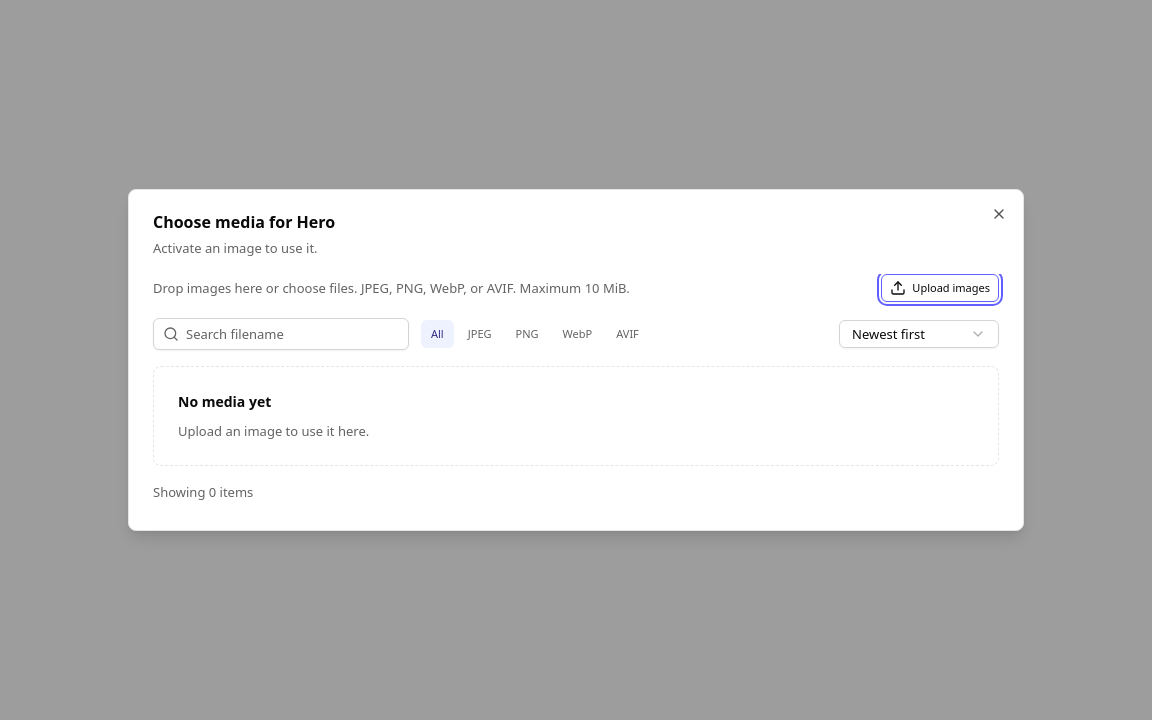
Test: empty and no-match states are distinguished and filters can be cleared
Check: the heading "No media yet" is shown, box [178,391,271,413]
Click the button "JPEG". click: (480, 334)
box: [458,320,502,348]
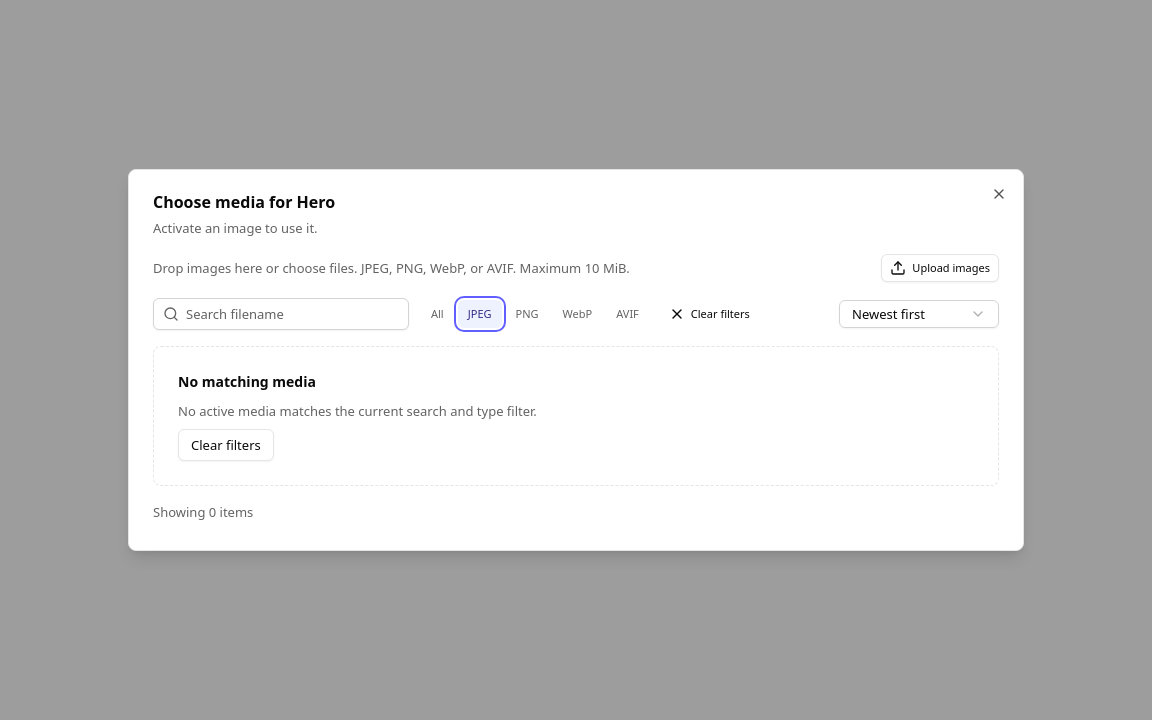
Check: the heading "No matching media" is shown, box [178,371,316,393]
Click the 1st button "Clear filters". click: (709, 314)
box: [661,300,758,328]
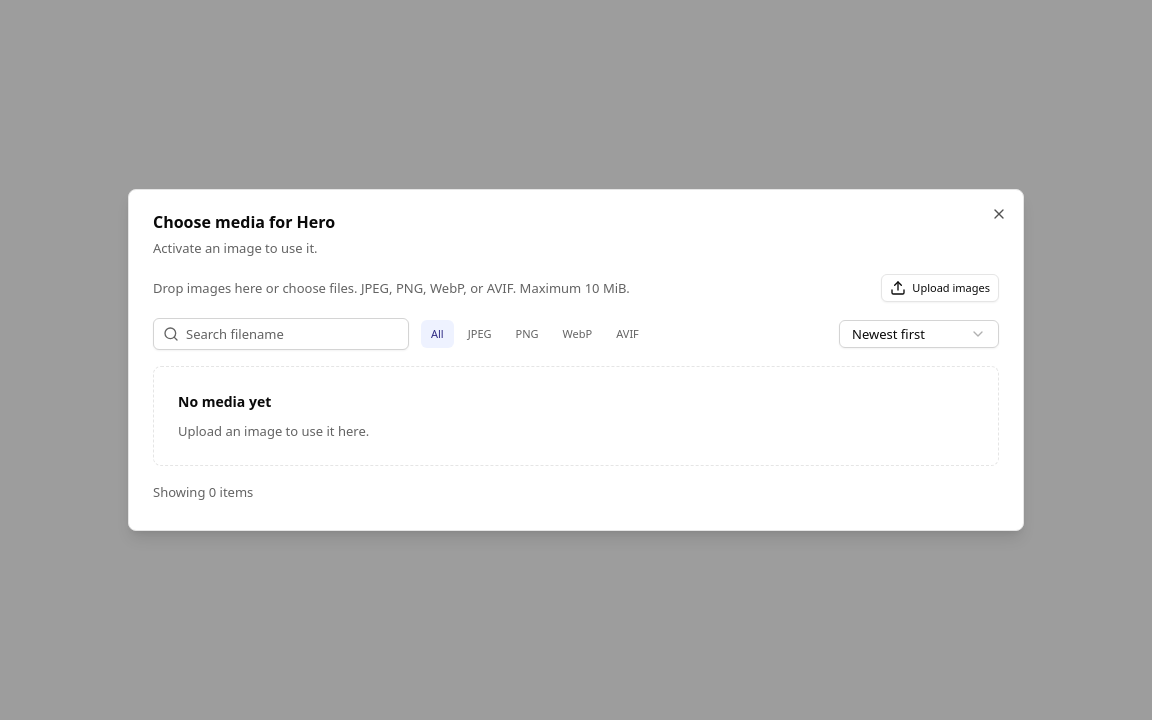
Check: the heading "No media yet" is shown, box [178,391,271,413]
